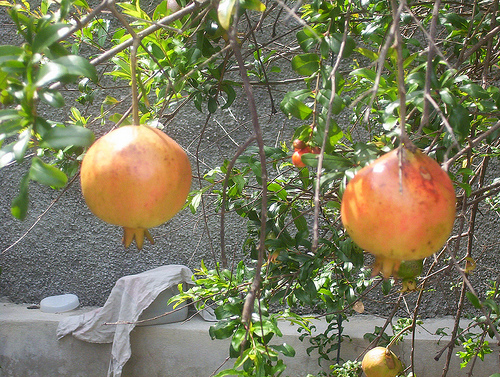pomogranate: (340, 141, 458, 280), (80, 122, 192, 247), (362, 346, 401, 376), (292, 145, 314, 172)
